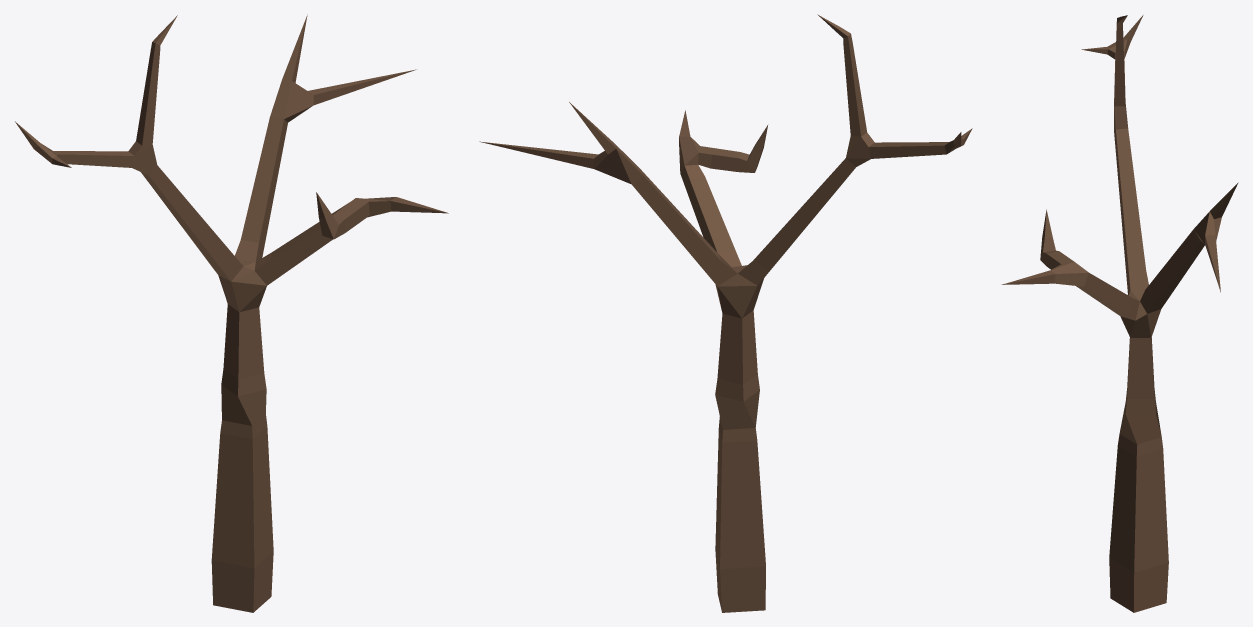
The model's file is Desert_DeadTree.fbx.
3 views of the same model, side by side, from view 1: azimuth 30°, elevation 25°; view 2: azimuth 150°, elevation 25°; view 3: azimuth 270°, elevation 25° (orthographic). The views are drawn at different scales.
Visible parts, largest first — view 1: Big dead tree; view 2: Big dead tree; view 3: Big dead tree.
Boxes of the visible parts, x1,y1,x2,y2 form: Big dead tree: [15, 14, 448, 612]; Big dead tree: [479, 14, 972, 612]; Big dead tree: [1001, 15, 1238, 612].
Bounding box in the file's own units: 1616 × 2104 × 817.
